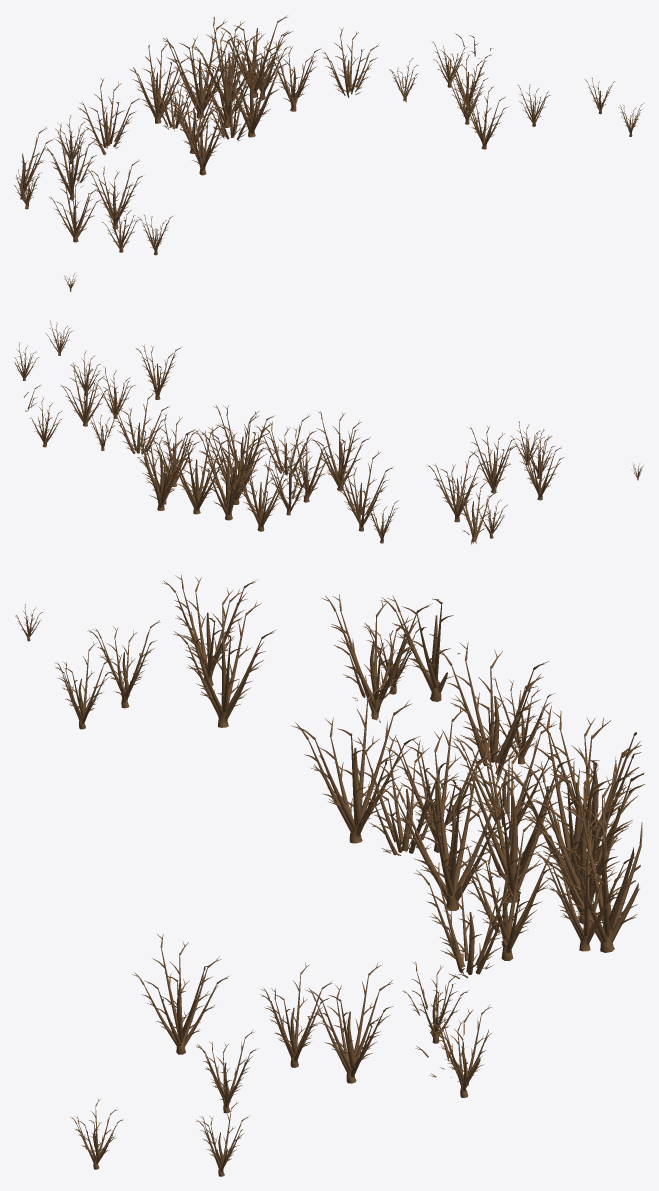
The model's file is broadleaf-tree.glb.
3 renders of one model, top to bottom at view 1: azimuth 30°, elevation 25°; view 2: azimuth 150°, elevation 25°; view 3: azimuth 270°, elevation 25°, orthographic. The views are drawn at different scales.
Visible parts, largest first — view 1: part_00003, part_00019, part_00034, part_00009, part_00008, part_00024, part_00005, part_00004, part_00022, part_00028, part_00027, part_00011 (+11 smaller); view 2: part_00003, part_00004, part_00005, part_00009, part_00019, part_00024, part_00008, part_00034, part_00028, part_00011, part_00022, part_00025 (+14 smaller); view 3: part_00034, part_00005, part_00019, part_00008, part_00003, part_00024, part_00004, part_00027, part_00022, part_00028, part_00023, part_00011 (+16 smaller).
Part boxes in pixels (x1,y1,x2,y2): part_00003: (162, 20, 238, 118); part_00019: (191, 31, 265, 127); part_00034: (217, 48, 287, 137); part_00009: (129, 43, 190, 123); part_00008: (171, 97, 232, 175); part_00024: (77, 78, 139, 154); part_00005: (220, 15, 292, 97); part_00004: (192, 16, 264, 101); part_00022: (321, 27, 378, 97); part_00028: (45, 123, 96, 200); part_00027: (263, 41, 321, 111); part_00011: (86, 159, 143, 229); part_00003: (193, 430, 264, 520); part_00004: (162, 424, 231, 514); part_00005: (134, 425, 195, 510); part_00009: (228, 449, 293, 531); part_00019: (201, 414, 269, 504); part_00024: (328, 451, 392, 531); part_00008: (311, 411, 370, 490); part_00034: (211, 405, 274, 491); part_00028: (427, 451, 485, 522); part_00011: (469, 425, 517, 493); part_00022: (109, 393, 169, 457); part_00025: (281, 428, 332, 502); part_00034: (378, 731, 521, 910); part_00005: (534, 768, 642, 952); part_00019: (448, 735, 574, 902); part_00008: (291, 682, 420, 843); part_00003: (502, 705, 644, 894); part_00024: (435, 642, 549, 784); part_00004: (520, 761, 644, 924); part_00027: (451, 816, 566, 960); part_00022: (414, 862, 522, 979); part_00028: (321, 594, 432, 722); part_00023: (353, 735, 458, 855); part_00011: (173, 587, 276, 727).
Bounding box in the file's own units: 90.75 × 12.78 × 44.19.
